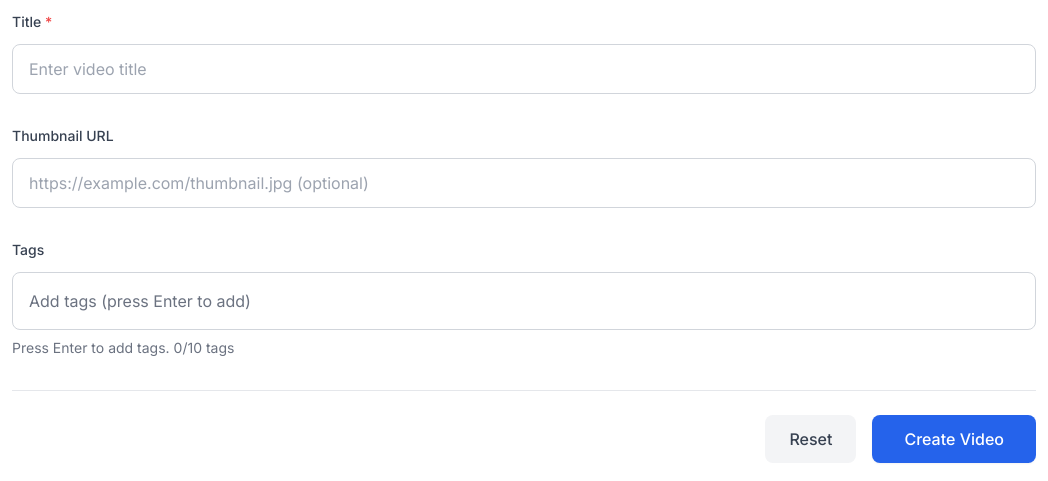
Scenario: VideoForm › resets form when reset button is clicked
Type "Test Video" into the field labelled "Title *".
click(524, 69); type("Test Video")  # box left=12, top=44, right=1036, bottom=94
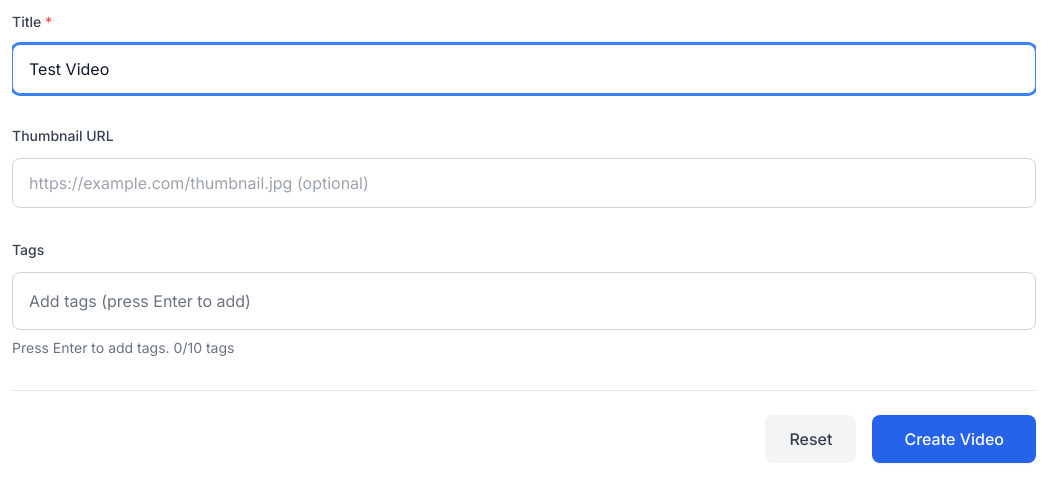
Click the button "Reset".
click(811, 439)  # box left=765, top=415, right=856, bottom=463
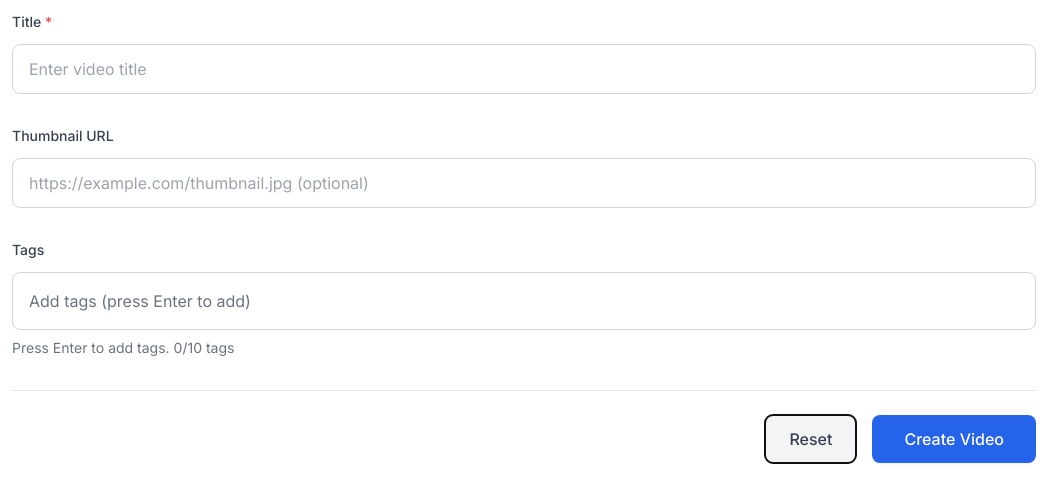
Result: the field labelled "Title *" is empty at left=12, top=44, right=1036, bottom=94
